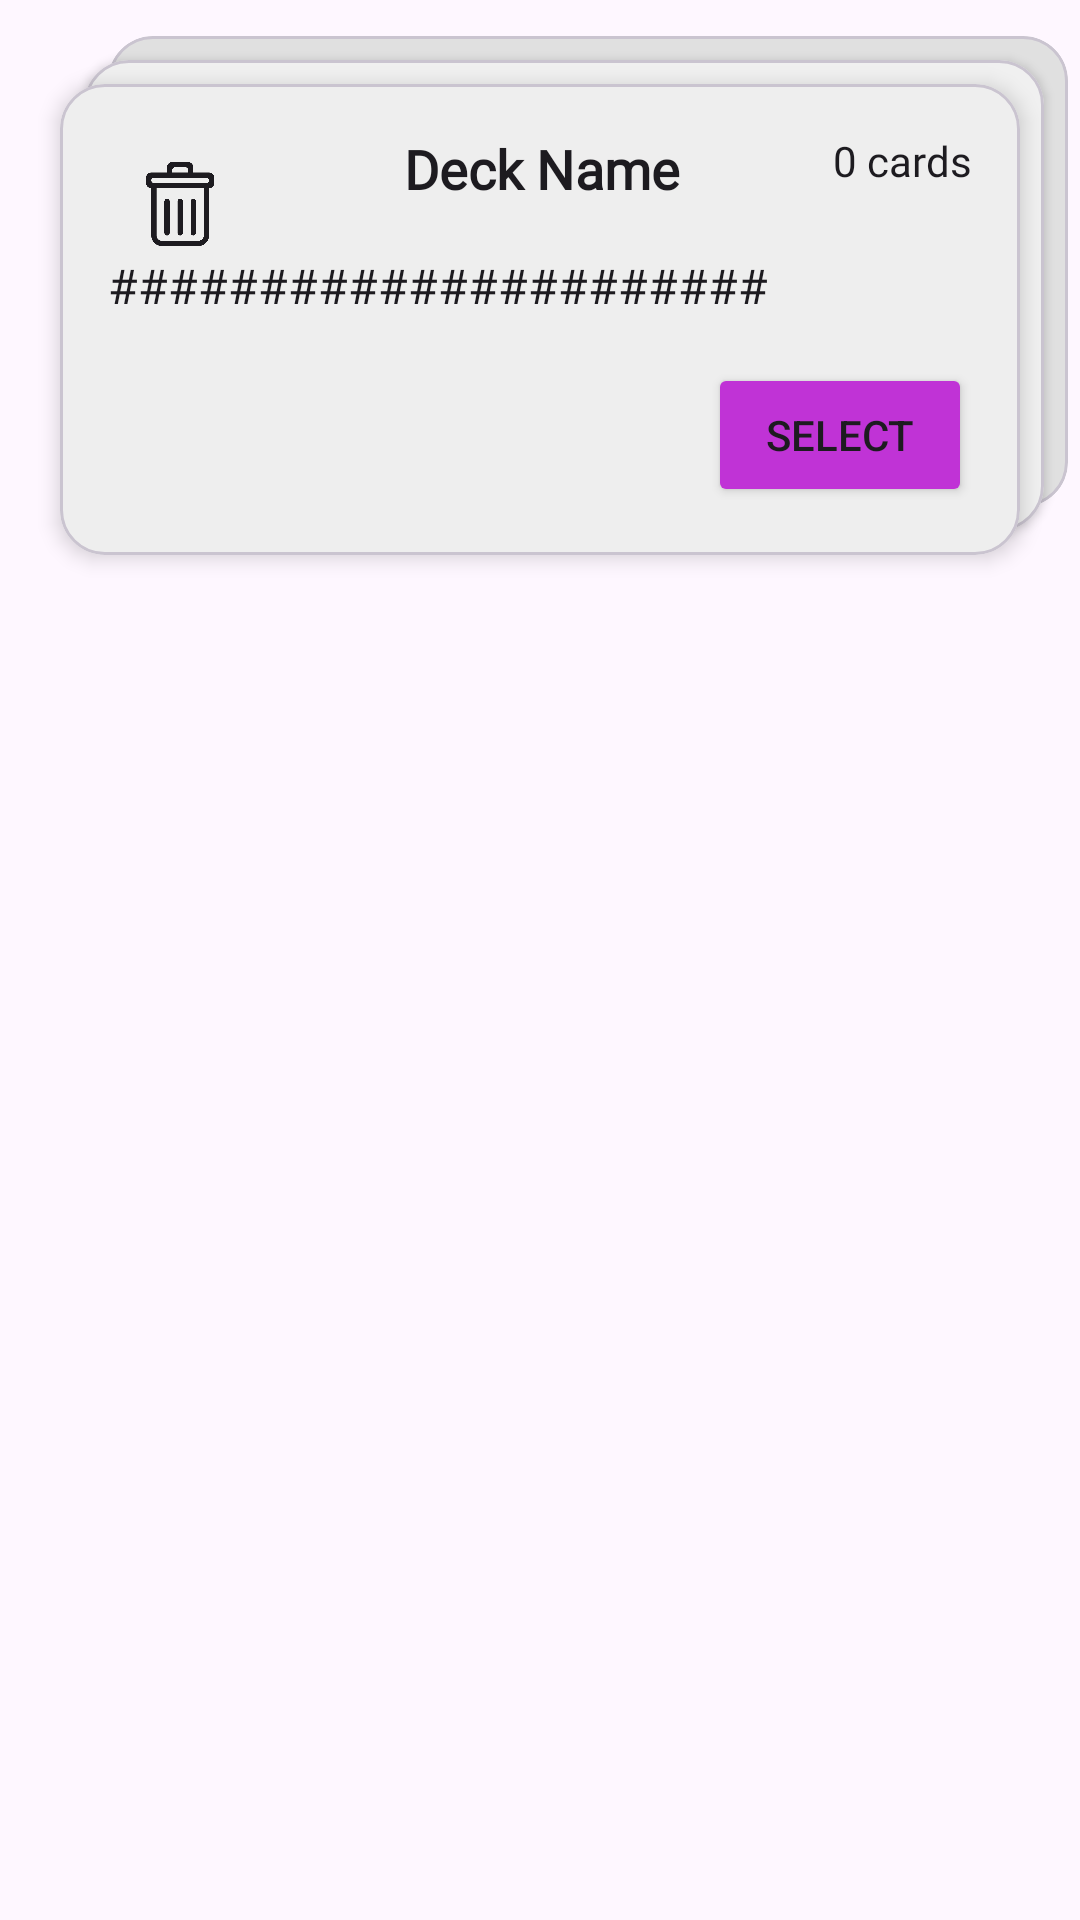

Named icons in this screenshot (1080w x 1920h) and their centers, (x,y):
Delete deck icon: (180,204)
